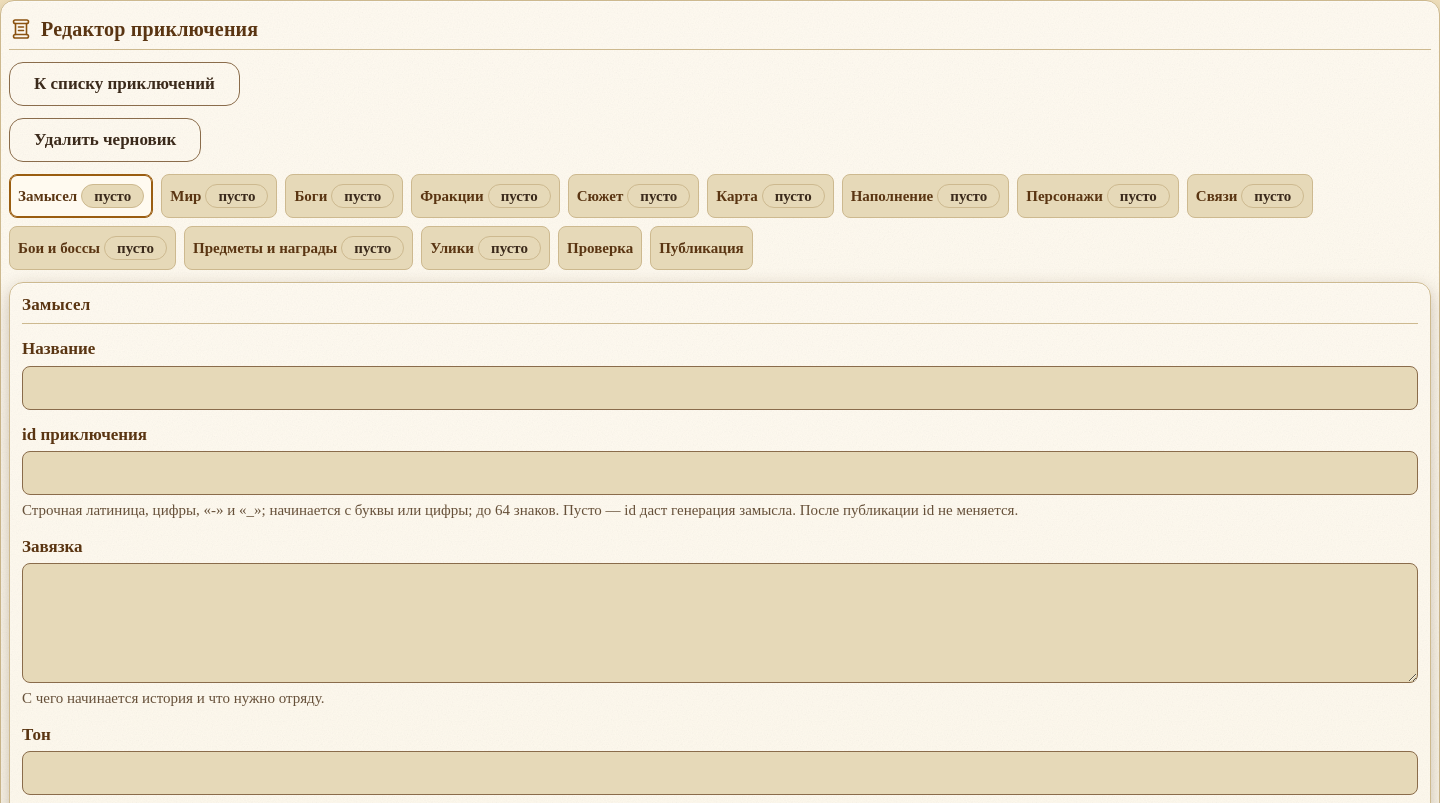
Test: шаг «Предметы и награды» › 422 invalid_data: текст сервера и подробности списком
The width and height of the screenshot is (1440, 803).
Click the button "Предметы и награды пусто" at coordinates (299, 248), box [184,226,413,270]
(page scrolled)
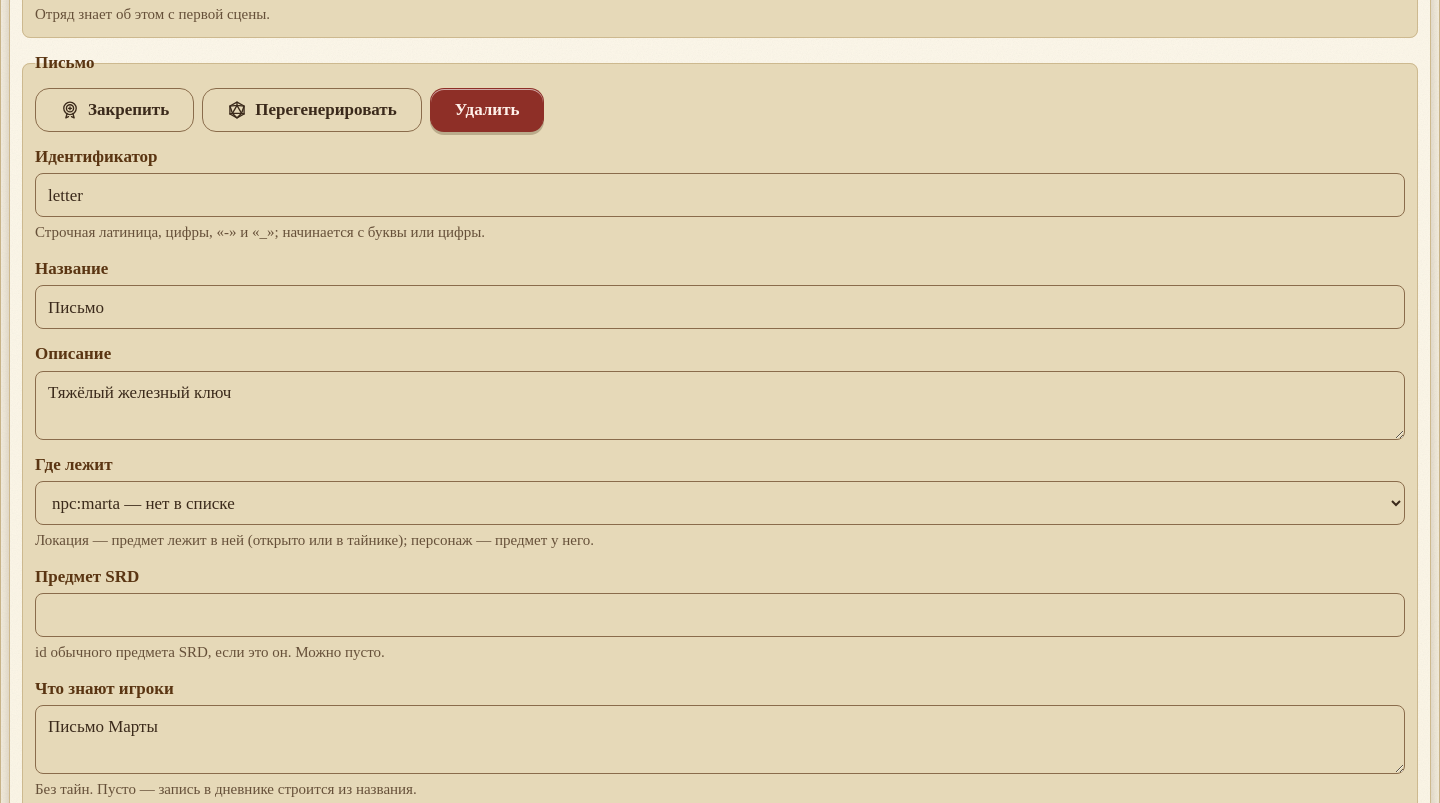
Replace the text in the text box labelled "Описание" with "Мятое письмо" at coordinates (720, 405), box [35,371,1405,440]
(page scrolled)
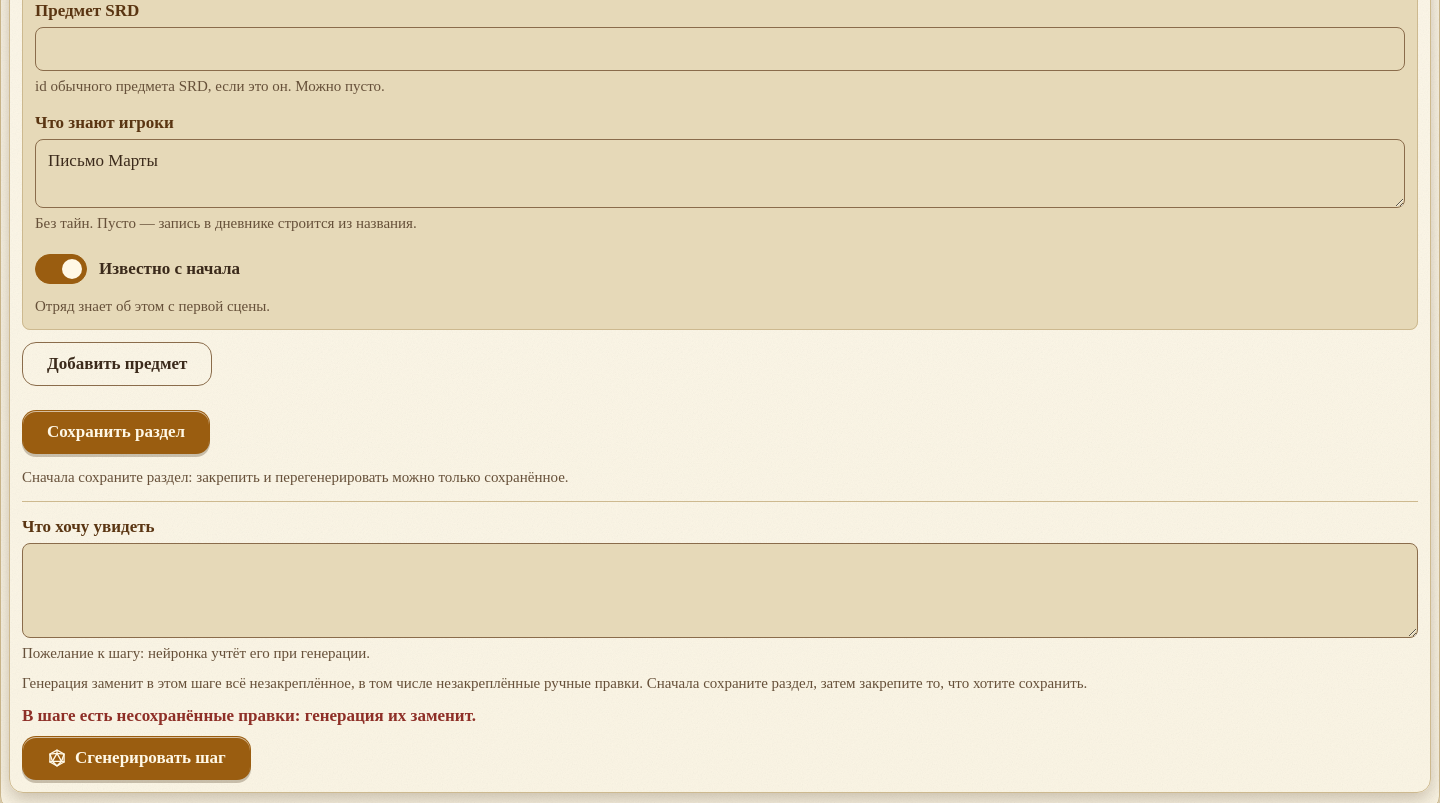
Click the button "Сохранить раздел" at coordinates (116, 432), box [22,410,210,454]
(page scrolled)
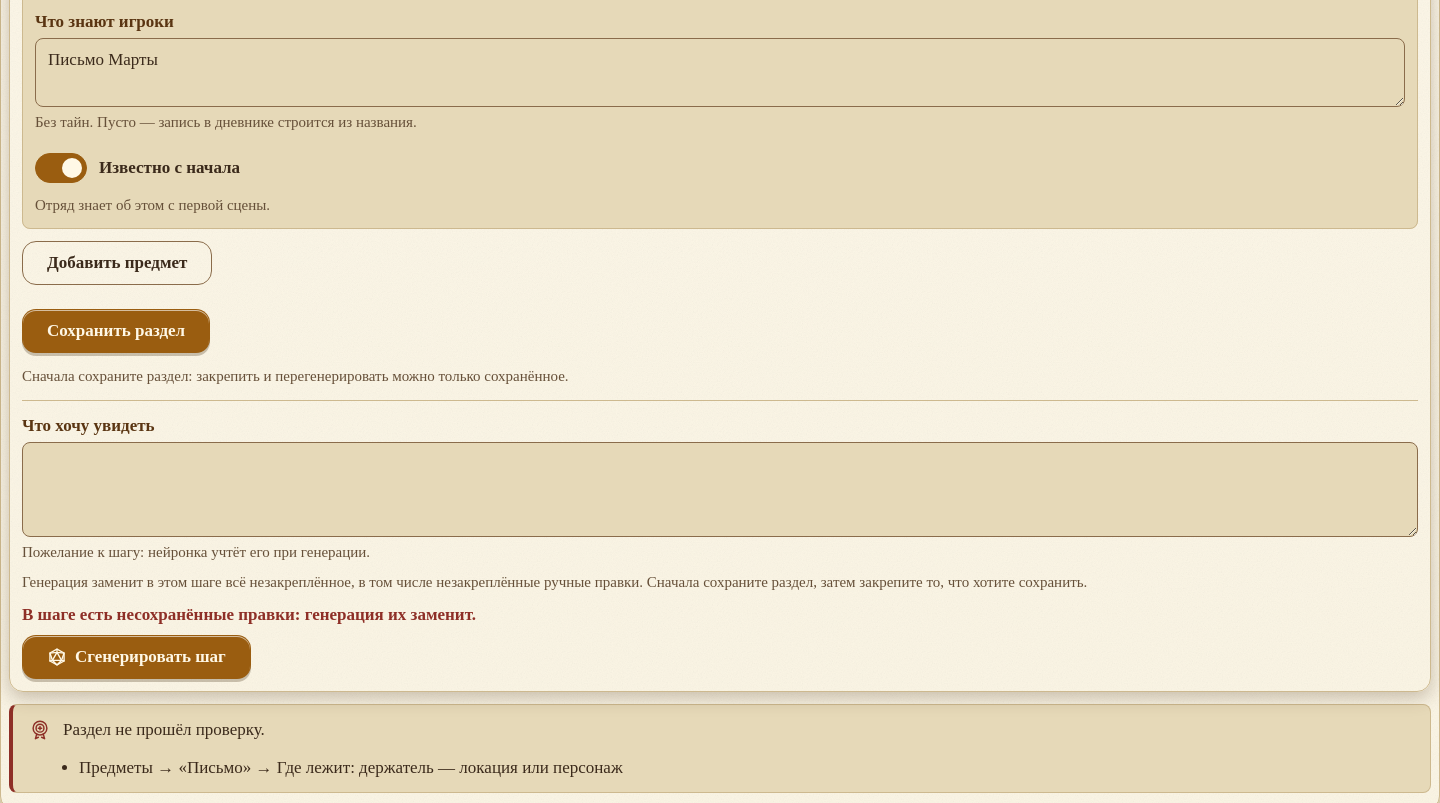
Check: the message shows "Раздел не прошёл проверку.", box [63,720,265,739]
Check: the 2nd list item is shown, box [79,758,623,777]
